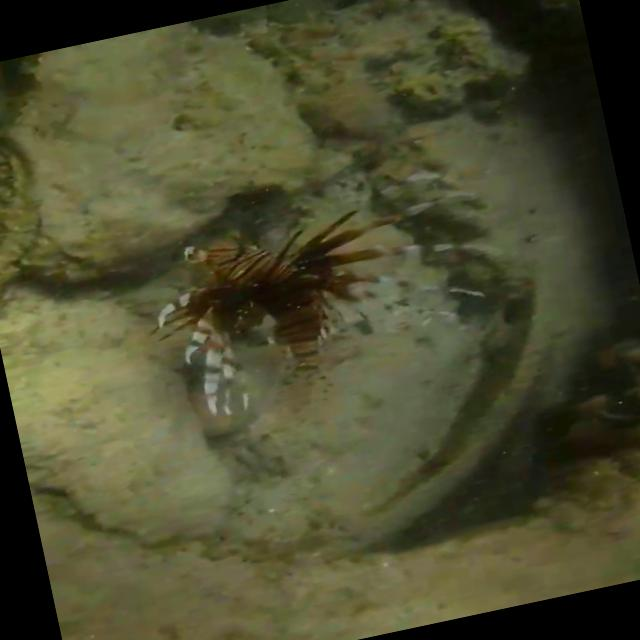Aslan Baligi: (120, 156, 508, 451)
